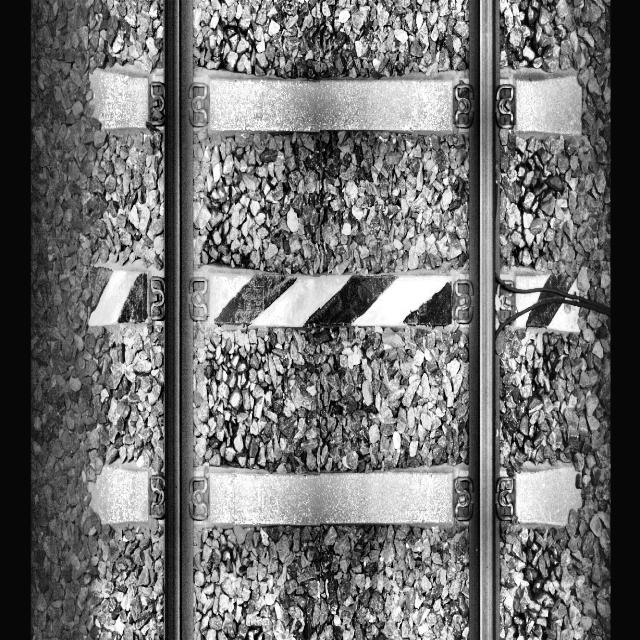Clips: (494, 277, 514, 328), (188, 79, 208, 127), (454, 279, 475, 324), (188, 474, 208, 521), (454, 476, 474, 522), (495, 476, 515, 522), (454, 84, 474, 128), (188, 275, 207, 321), (148, 472, 166, 520), (149, 274, 166, 322), (496, 86, 514, 129), (148, 80, 164, 126)
Sleepers: (86, 255, 583, 340), (88, 64, 585, 142), (85, 461, 582, 528)
